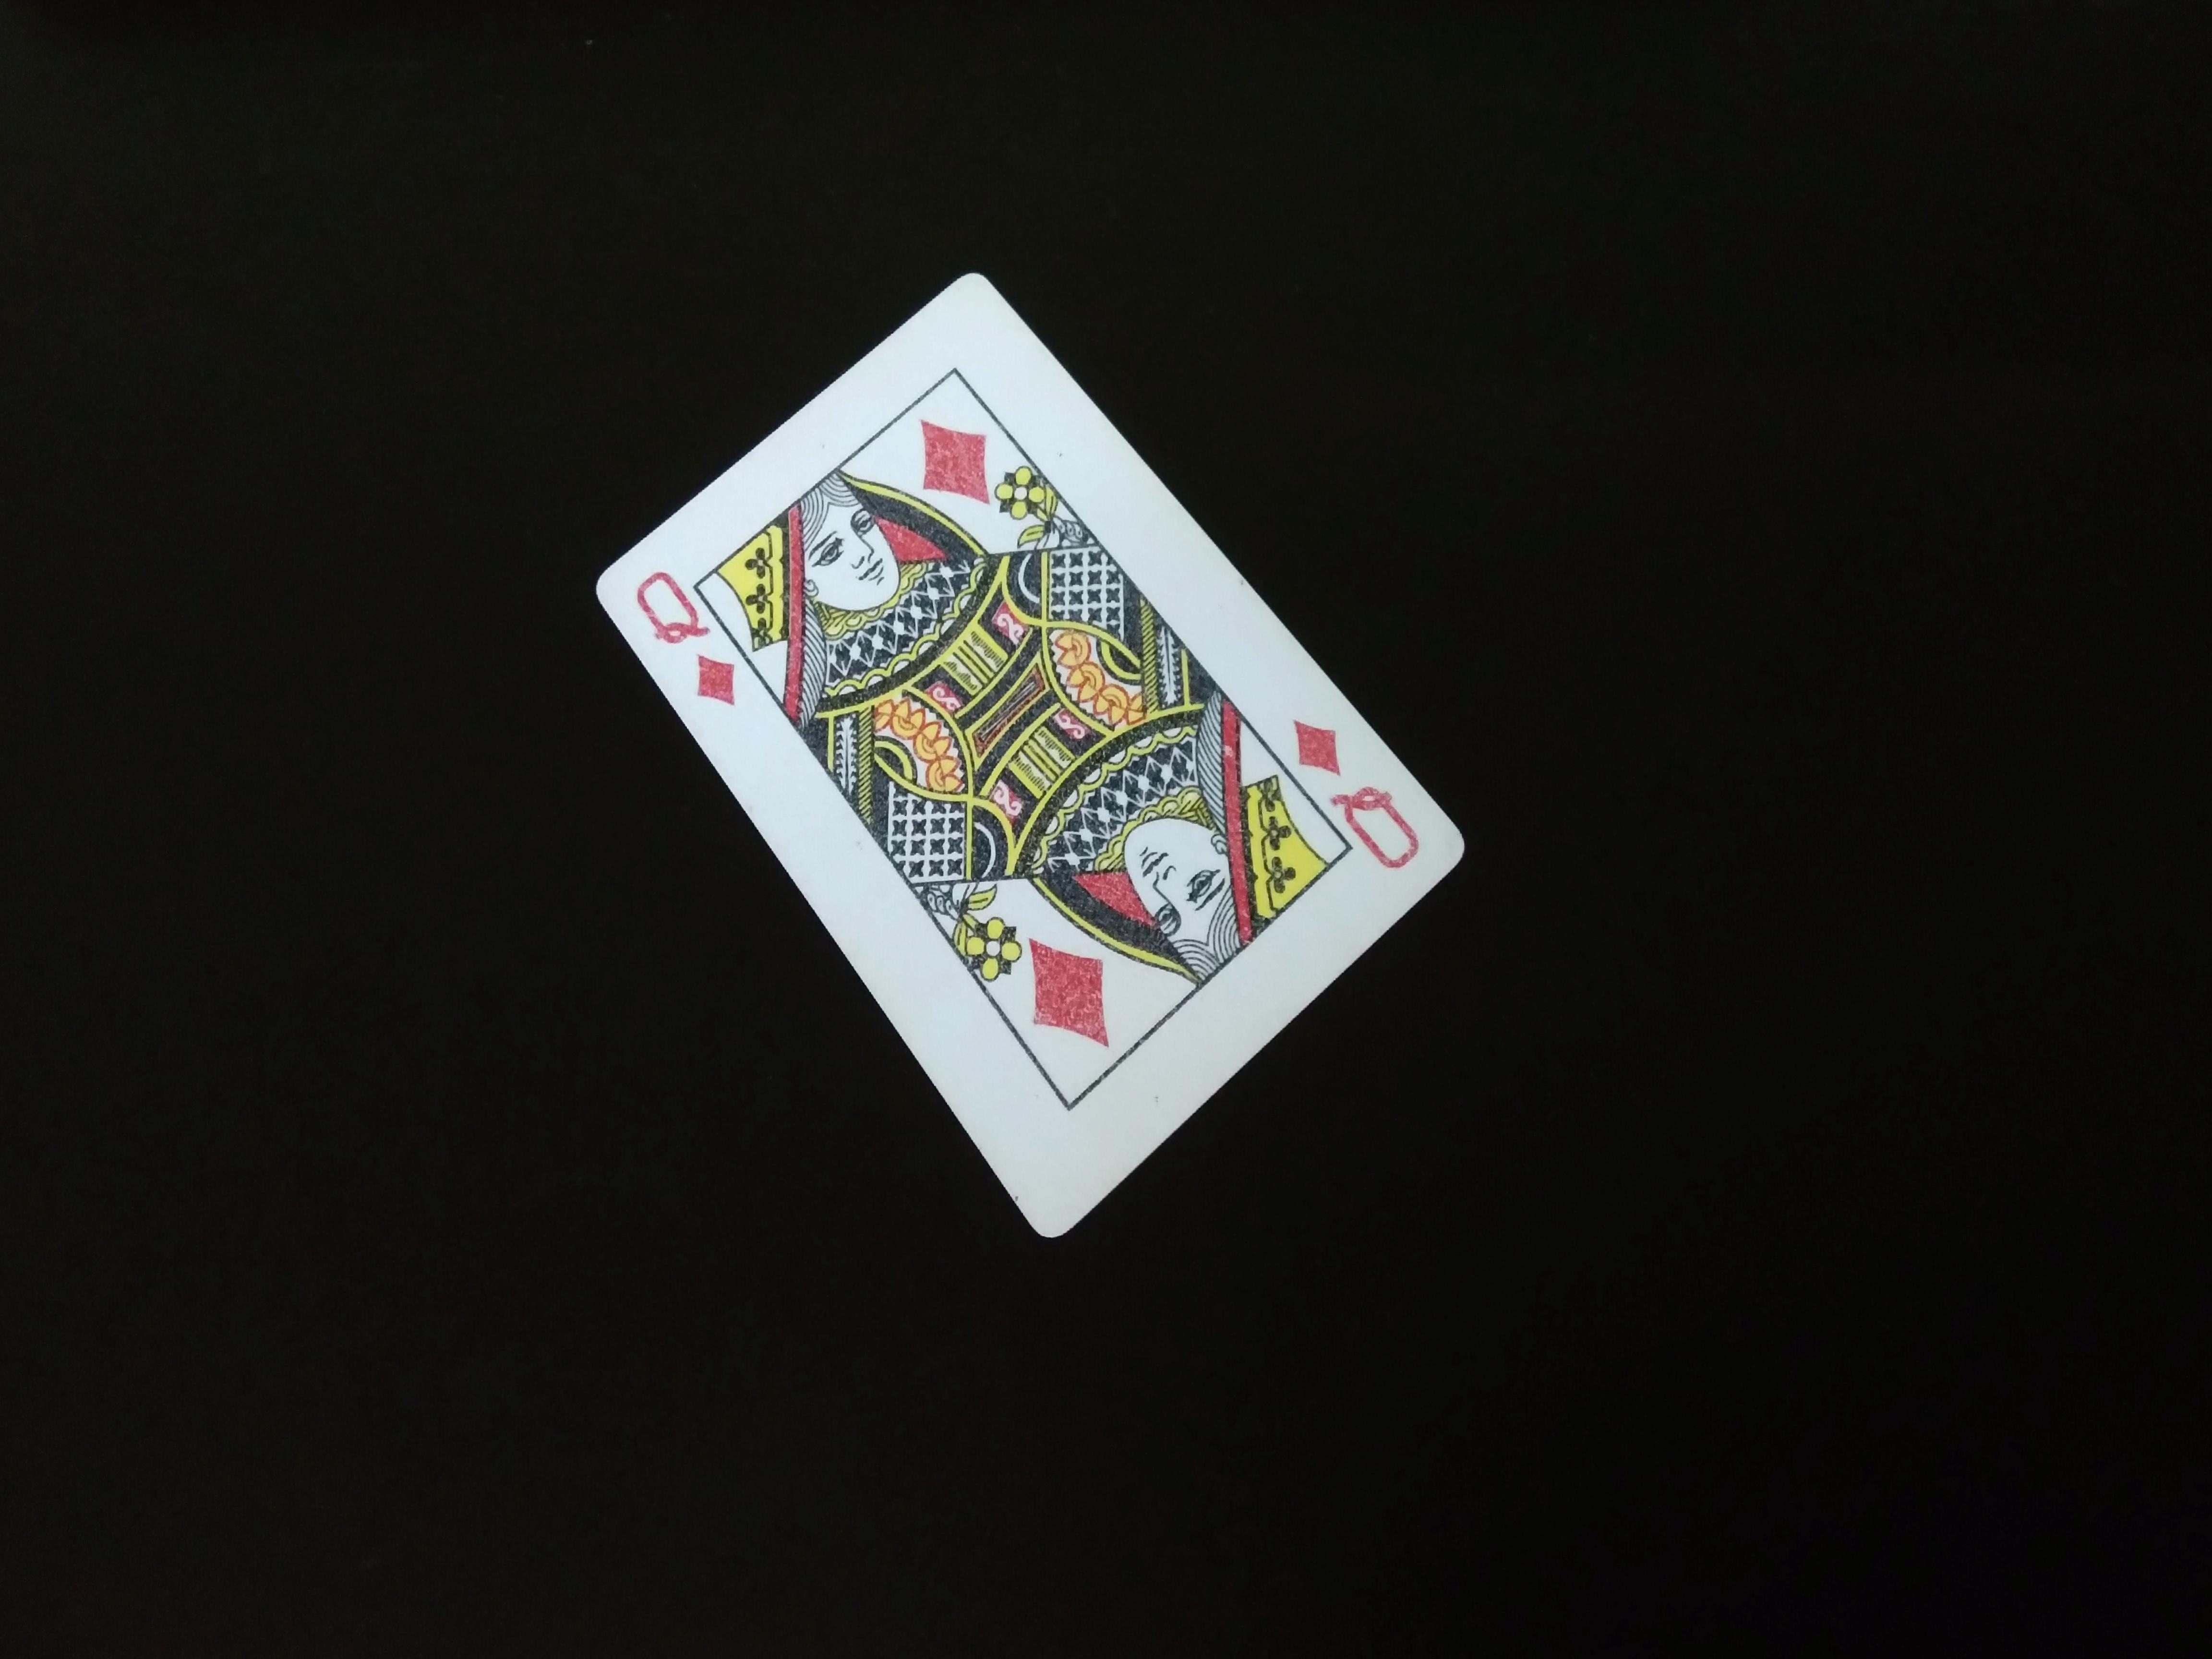QD: (618, 549, 756, 718)
